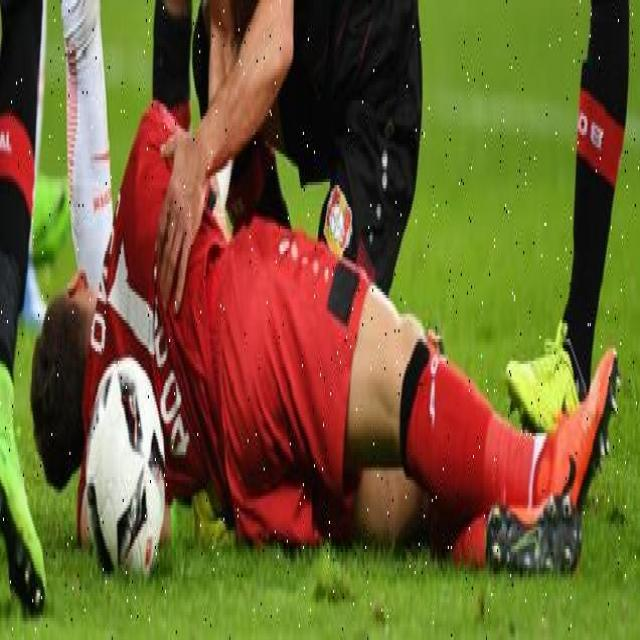fall: (38, 178, 610, 562)
